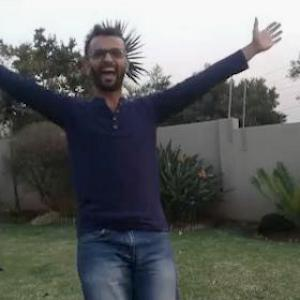takeoff: (1, 25, 278, 299)
